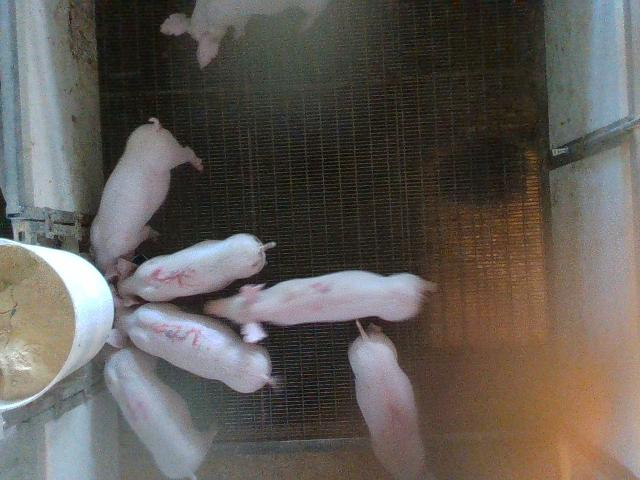pig-1: (349, 321, 434, 479)
pig-3: (107, 298, 272, 392)
pig-4: (104, 348, 216, 478)
pig-5: (116, 234, 276, 306)
